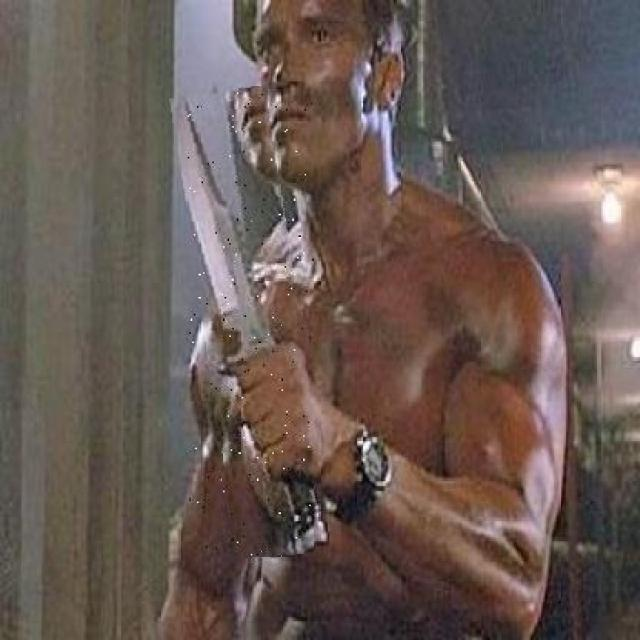knife: (186, 88, 314, 557)
